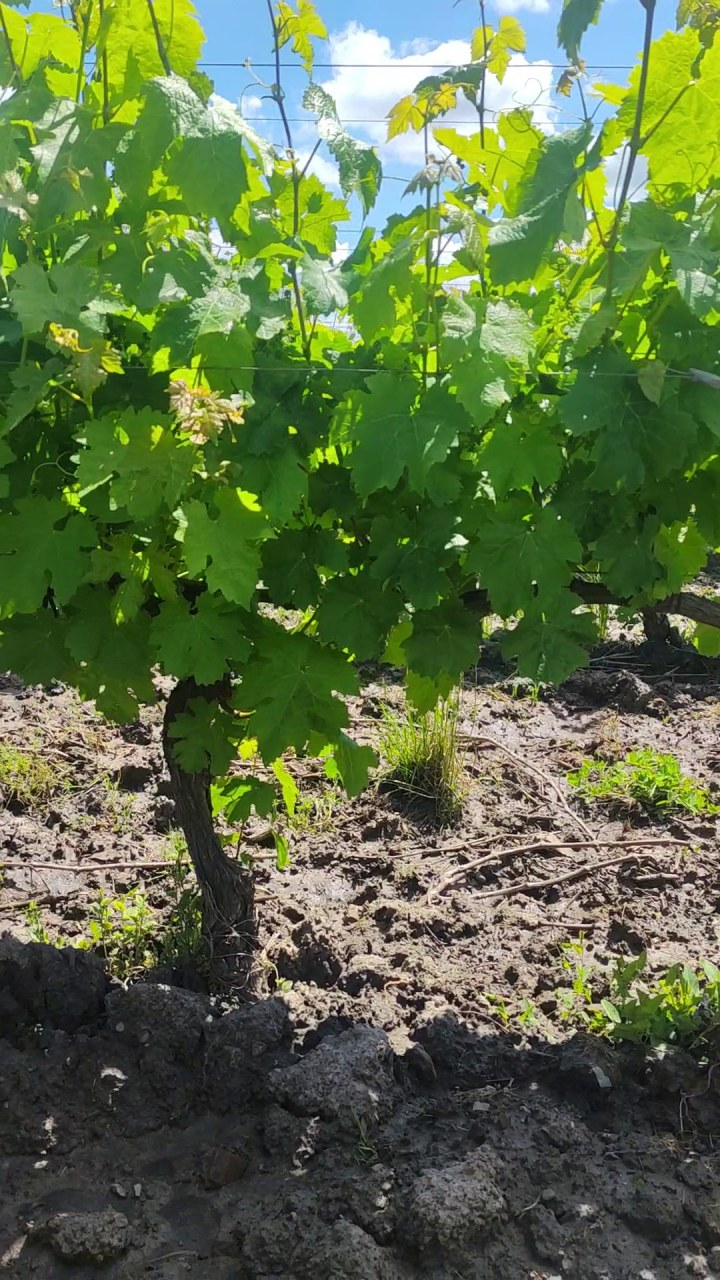vine_trunk: (170, 677, 253, 937)
